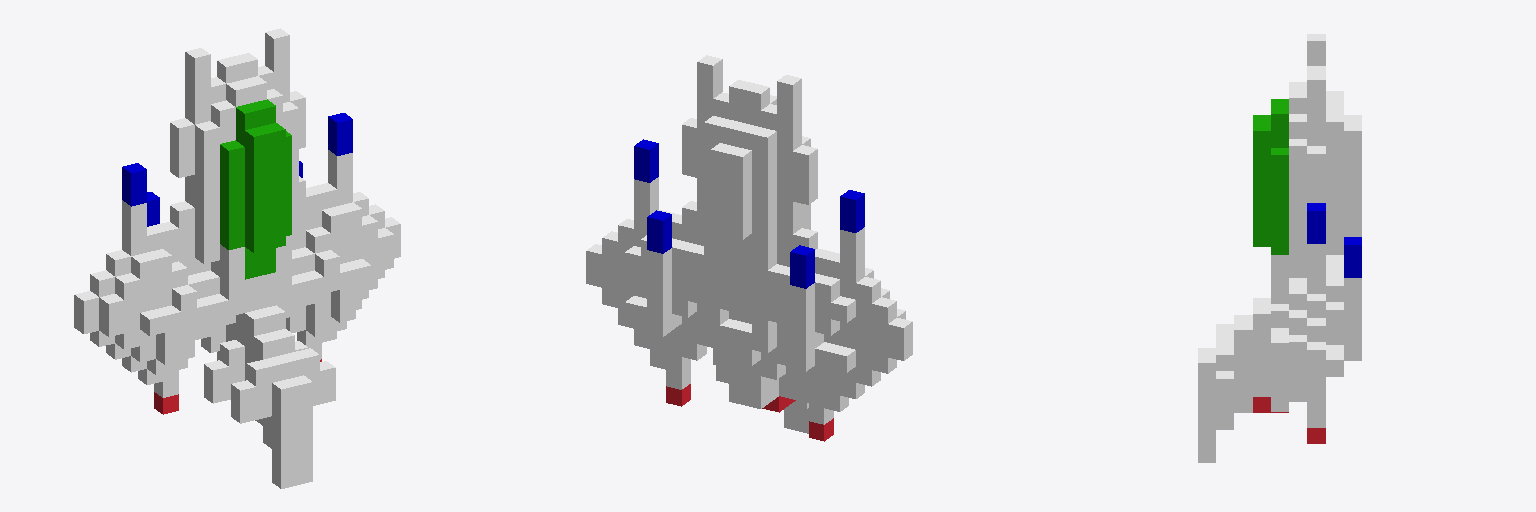
3 renders of one model, left to right at view 1: azimuth 30°, elevation 25°; view 2: azimuth 150°, elevation 25°; view 3: azimuth 270°, elevation 25°, orthographic.
Visible parts, largest first — view 1: object 1; view 2: object 1; view 3: object 1.
Part boxes in pixels (x1,y1,x2,y2): object 1: (74,28,400,488); object 1: (586,55,912,441); object 1: (1198,34,1361,462).
Size of the model in its own units: 2 by 2.4 by 0.9.
1 materials, 1 textured.